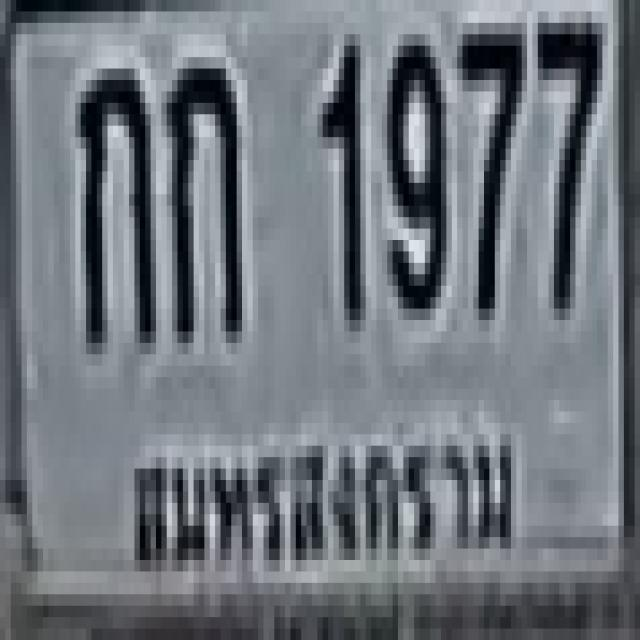-: (75, 57, 151, 343), (161, 57, 237, 332)
1: (317, 29, 355, 314)
7: (532, 12, 597, 308), (457, 12, 522, 308)
9: (382, 23, 441, 308)
SKM: (109, 396, 536, 588)
